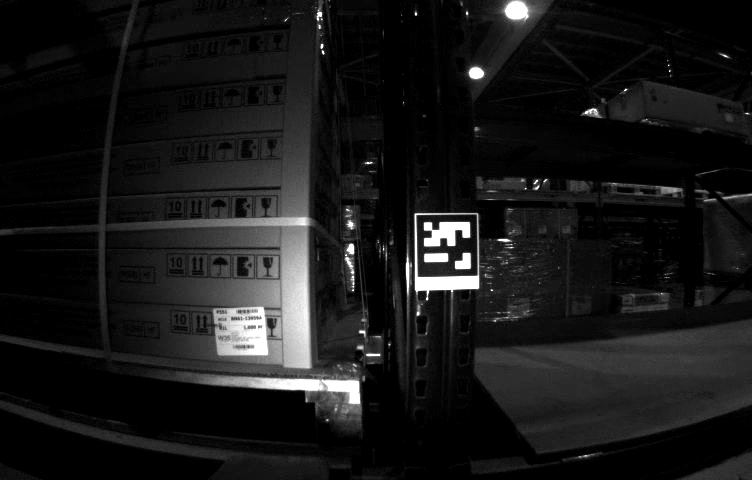True Barcode: (213, 307, 267, 355)
